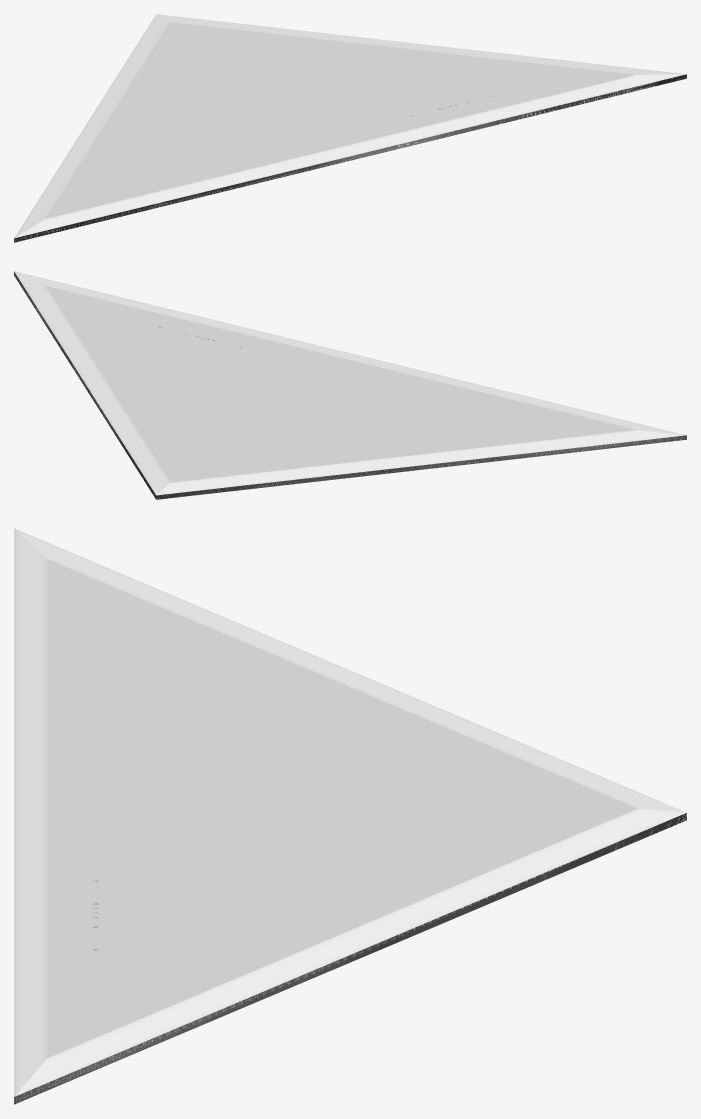
The model's file is Triangle_Set_Square_Ruler.fbx.
3 renders of one model, top to bottom at view 1: azimuth 30°, elevation 25°; view 2: azimuth 150°, elevation 25°; view 3: azimuth 270°, elevation 25°, orthographic. The views are drawn at different scales.
Parts seen in each view (by area): view 1: Triangle_Set_Square_Ruler; view 2: Triangle_Set_Square_Ruler; view 3: Triangle_Set_Square_Ruler.
Part boxes in pixels (x1,y1,x2,y2): Triangle_Set_Square_Ruler: (14, 14, 686, 242); Triangle_Set_Square_Ruler: (14, 271, 686, 499); Triangle_Set_Square_Ruler: (14, 528, 686, 1104).
Size of the model in its own units: 0.16 by 0.00201 by 0.08.
Materials: 1 (1 with a texture image).
